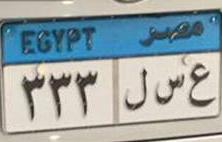3: (19, 74, 47, 122), (75, 71, 103, 116), (48, 71, 73, 119)
ain: (188, 61, 214, 106)
laam: (124, 68, 147, 109)
seen: (152, 72, 187, 106)
